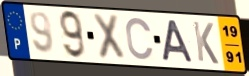9: (58, 9, 87, 61), (28, 10, 56, 55)
A: (161, 19, 196, 65)
C: (125, 16, 156, 62)
K: (191, 20, 221, 67)
X: (91, 12, 127, 63)
